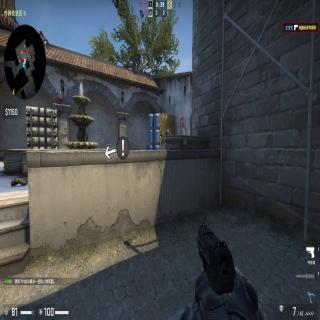T-Head: (166, 127, 169, 132)
